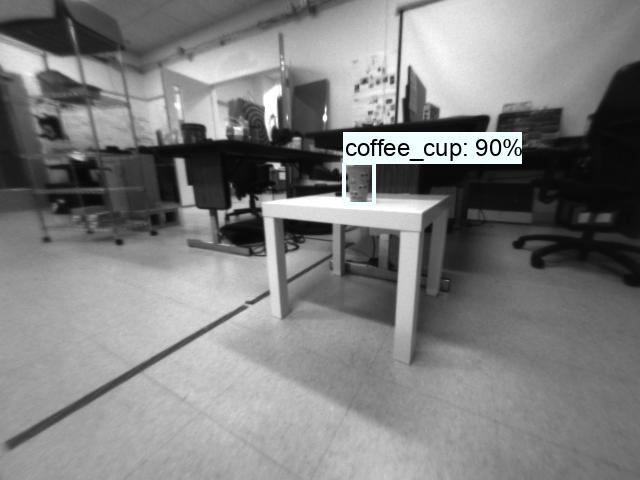coffee_cup: (342, 164, 376, 204)
